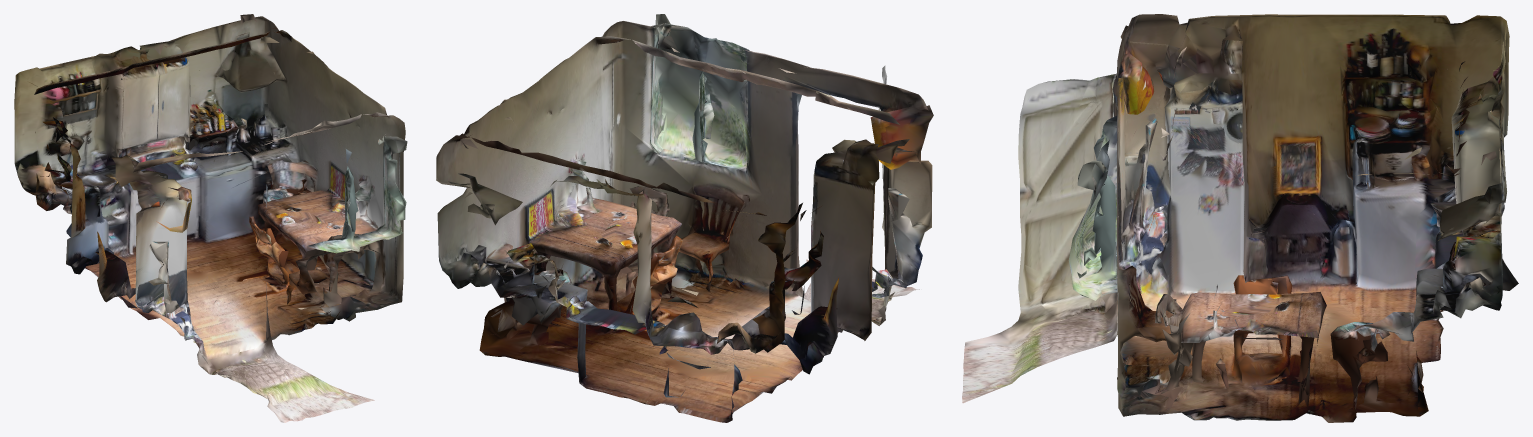
File: Kitchen.glb
3 views of the same model, side by side, from view 1: azimuth 30°, elevation 25°; view 2: azimuth 150°, elevation 25°; view 3: azimuth 270°, elevation 25° (orthographic). The views are drawn at different scales.
Parts seen in each view (by area): view 1: NewKitchen; view 2: NewKitchen; view 3: NewKitchen.
Part boxes in pixels (left/top/right/bottom): NewKitchen: left=14, top=14, right=407, bottom=422; NewKitchen: left=436, top=14, right=933, bottom=422; NewKitchen: left=962, top=14, right=1518, bottom=422.
Bounding box in the file's own units: 3.07 × 2.6 × 4.39.
Materials: 1 (1 with a texture image).
